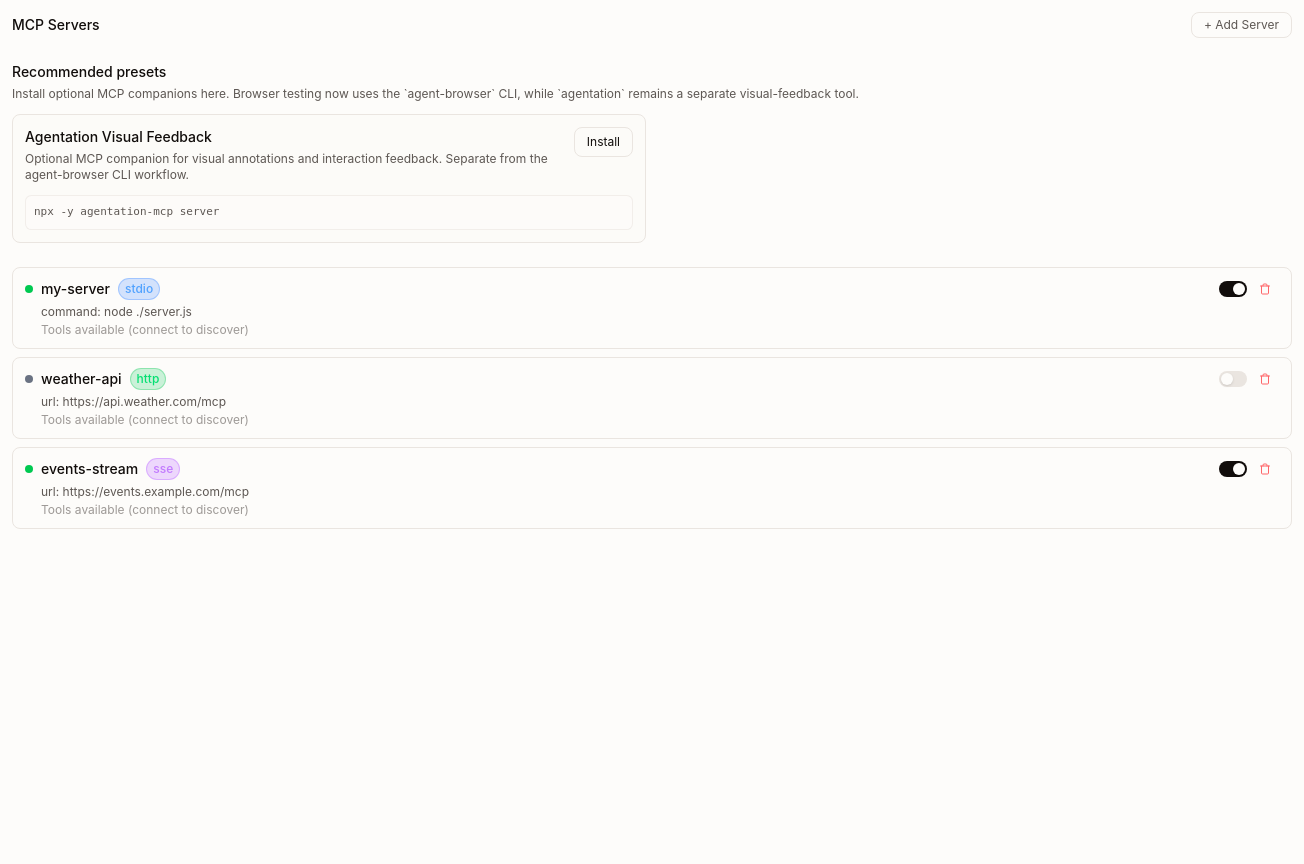
Test: McpPanel › add form shows correct fields for http type
The image size is (1304, 864).
Expected: the element with test id "mcp-panel" is shown, [12, 12, 1292, 528]
Click the button with test id "mcp-add-btn" at (1241, 25), box [1191, 12, 1292, 38]
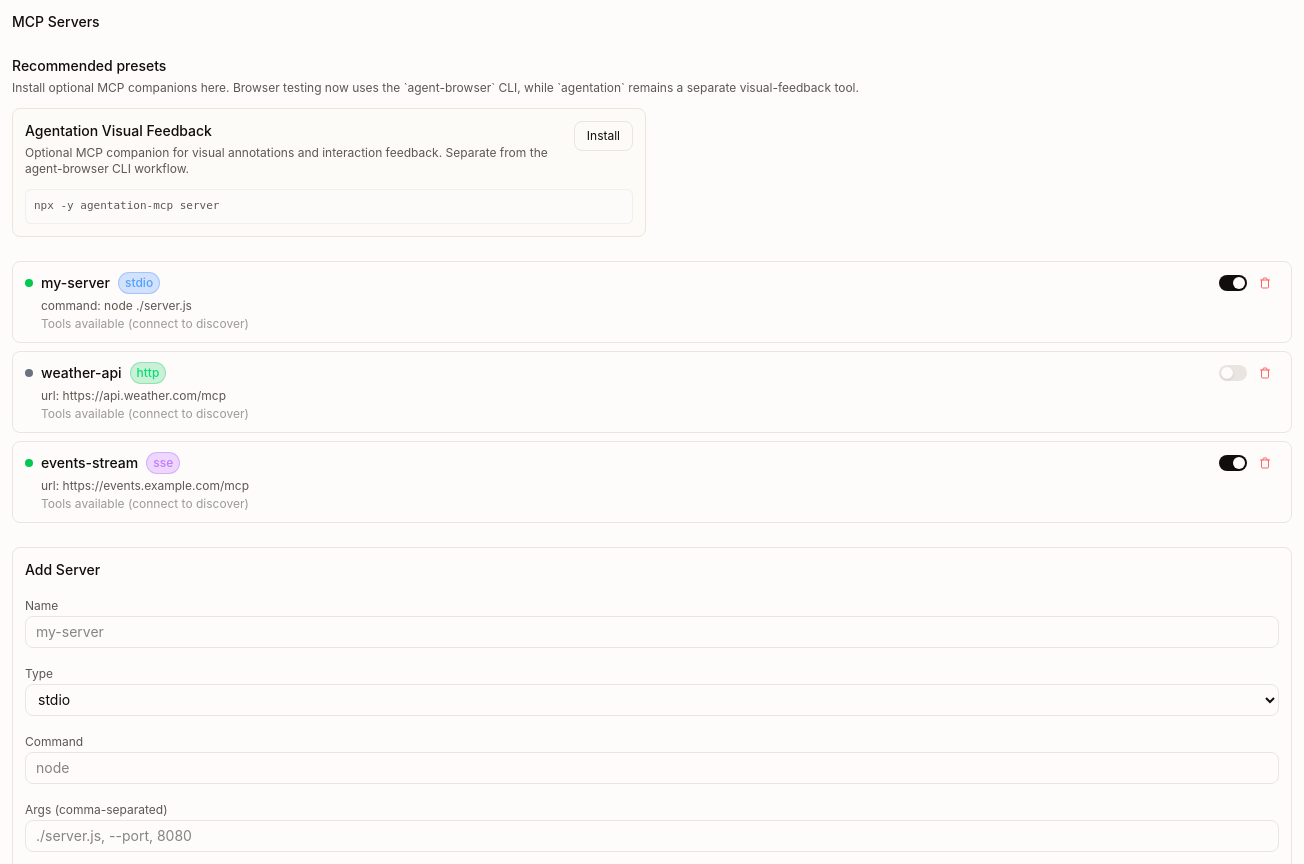
Select "http" in the dropdown with test id "mcp-add-type-select" at (652, 700), box [25, 684, 1279, 716]
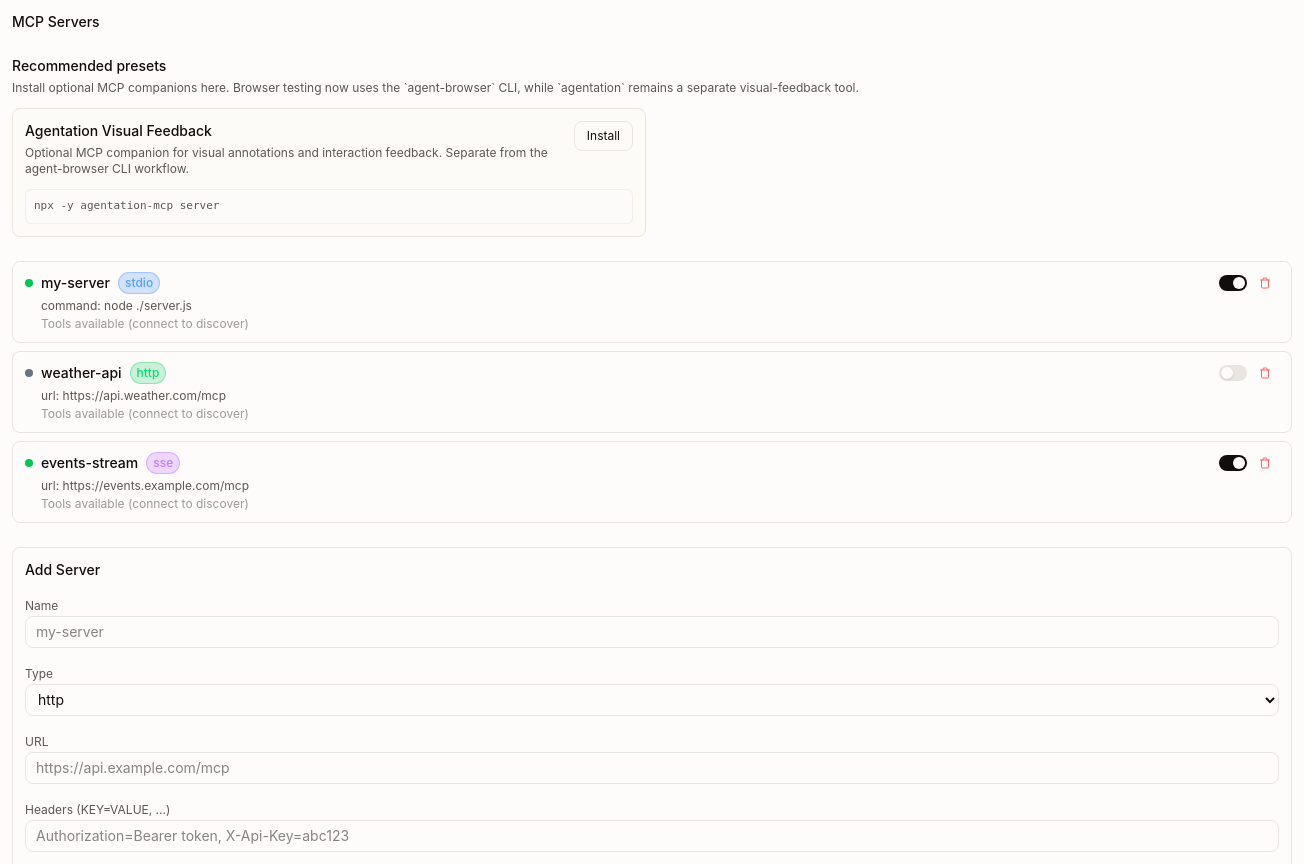
Expected: the field with test id "mcp-add-url-input" is shown, [25, 752, 1279, 784]
Expected: the field with test id "mcp-add-headers-input" is shown, [25, 820, 1279, 852]
